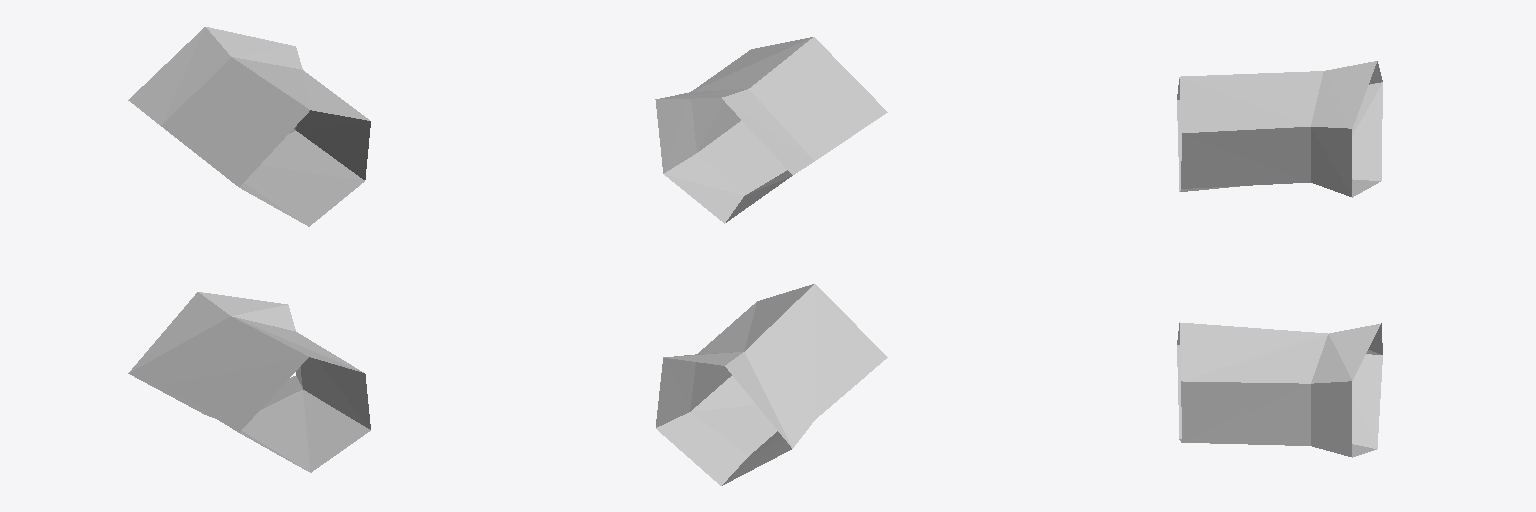
3 views of the same model, side by side, from view 1: azimuth 30°, elevation 25°; view 2: azimuth 150°, elevation 25°; view 3: azimuth 270°, elevation 25° (orthographic).
Visible parts, largest first — view 1: ka_downbody_002_1; view 2: ka_downbody_002_1; view 3: ka_downbody_002_1.
Part boxes in pixels (x1,y1,x2,y2): ka_downbody_002_1: (128,27,370,472); ka_downbody_002_1: (655,37,887,485); ka_downbody_002_1: (1177,61,1382,457).
Bounding box in the file's own units: 15.68 × 38.14 × 18.34.